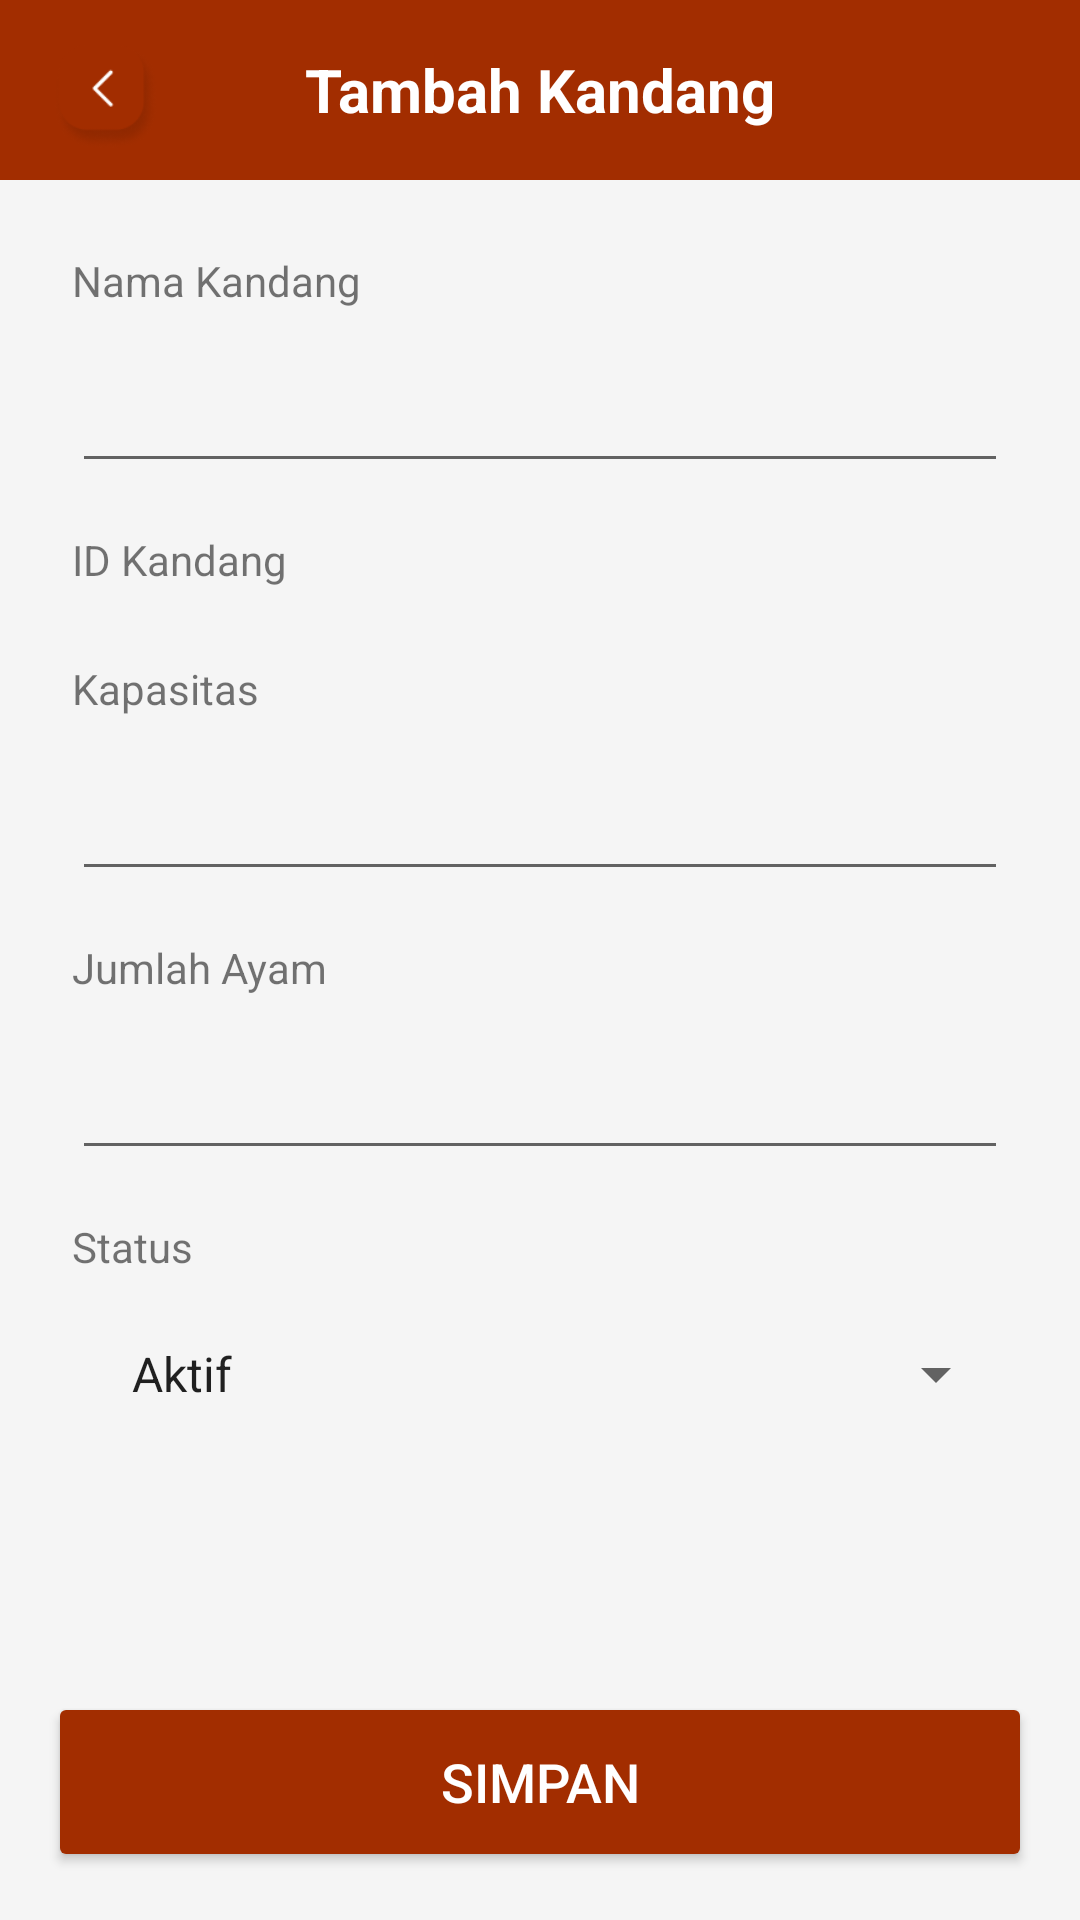

Point at icon controls on the screen. Image size 1080 x 1920, points as [x,y].
Kembali: [103,88]
